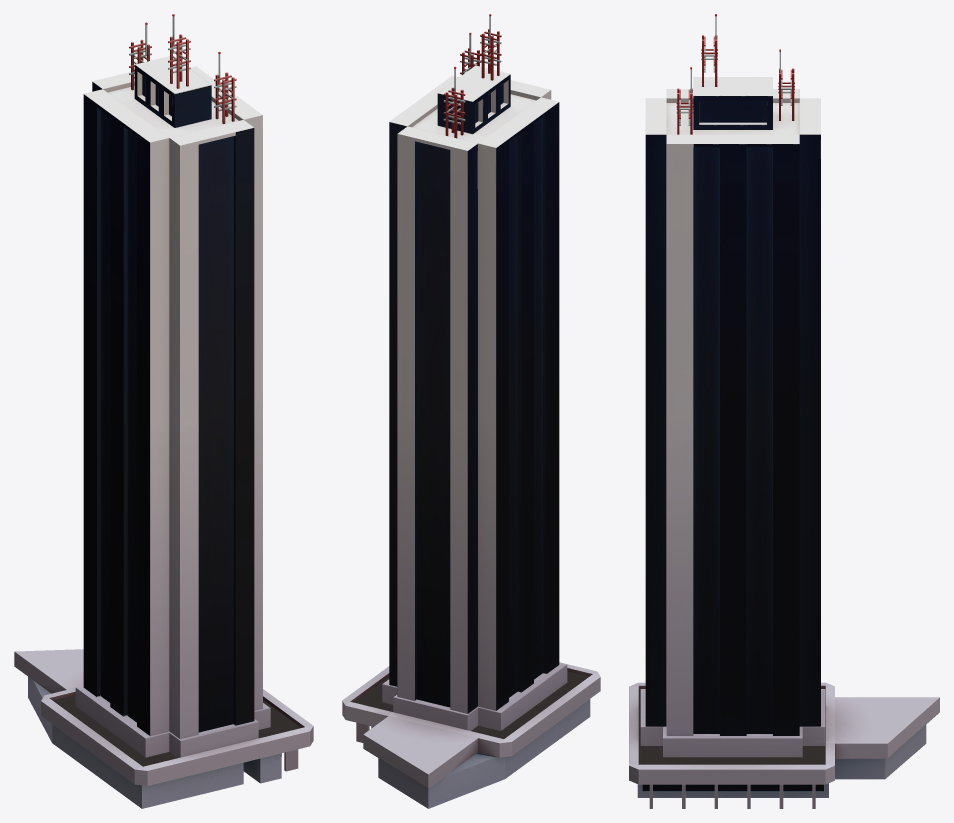
File: torre-de-cali.glb
The picture shows the model from 3 angles, left to right: view 1: azimuth 30°, elevation 25°; view 2: azimuth 150°, elevation 25°; view 3: azimuth 270°, elevation 25°; orthographic projection. The views are drawn at different scales.
Parts seen in each view (by area): view 1: Cube.022, Cube.023, Cube.006, Cube.017, Cube.025, Cube.054; view 2: Cube.022, Cube.023, Cube.006, Cube.017, Cube.025, Cube.054; view 3: Cube.022, Cube.023, Cube.006, Cube.017, Cube.025, Cube.011.
Boxes of the visible parts, x1,y1,x2,y2 form: Cube.022: [75, 56, 270, 757]; Cube.023: [101, 110, 233, 732]; Cube.006: [14, 649, 313, 785]; Cube.017: [28, 677, 281, 808]; Cube.025: [129, 34, 236, 123]; Cube.054: [129, 16, 236, 111]; Cube.022: [382, 65, 567, 730]; Cube.023: [417, 117, 542, 707]; Cube.006: [342, 662, 600, 788]; Cube.017: [371, 699, 590, 808]; Cube.025: [443, 29, 501, 138]; Cube.054: [443, 16, 501, 124]; Cube.022: [640, 77, 825, 757]; Cube.023: [642, 147, 823, 790]; Cube.006: [629, 682, 939, 784]; Cube.017: [637, 725, 926, 797]; Cube.025: [676, 35, 794, 134]; Cube.011: [649, 784, 815, 808].
Size of the model in its own units: 4.16 by 16.72 by 6.28.
Materials: 8 (8 with a texture image).
